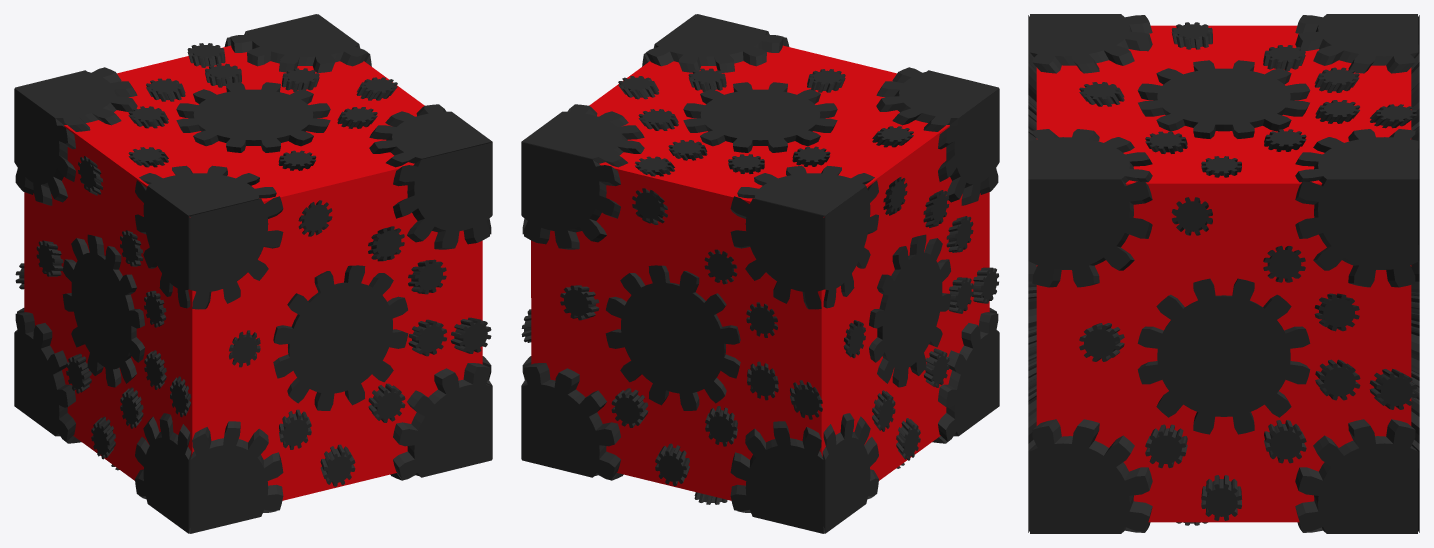
Rendered from gear.fbx.
The picture shows the model from 3 angles, left to right: view 1: azimuth 30°, elevation 25°; view 2: azimuth 150°, elevation 25°; view 3: azimuth 270°, elevation 25°; orthographic projection. The views are drawn at different scales.
Parts seen in each view (by area): view 1: Tessellation.012; view 2: Tessellation.012; view 3: Tessellation.012.
Boxes of the visible parts, x1,y1,x2,y2 form: Tessellation.012: (14, 14, 492, 533); Tessellation.012: (521, 14, 999, 533); Tessellation.012: (1028, 14, 1419, 533).
Bounding box in the file's own units: 209 × 209 × 209.
